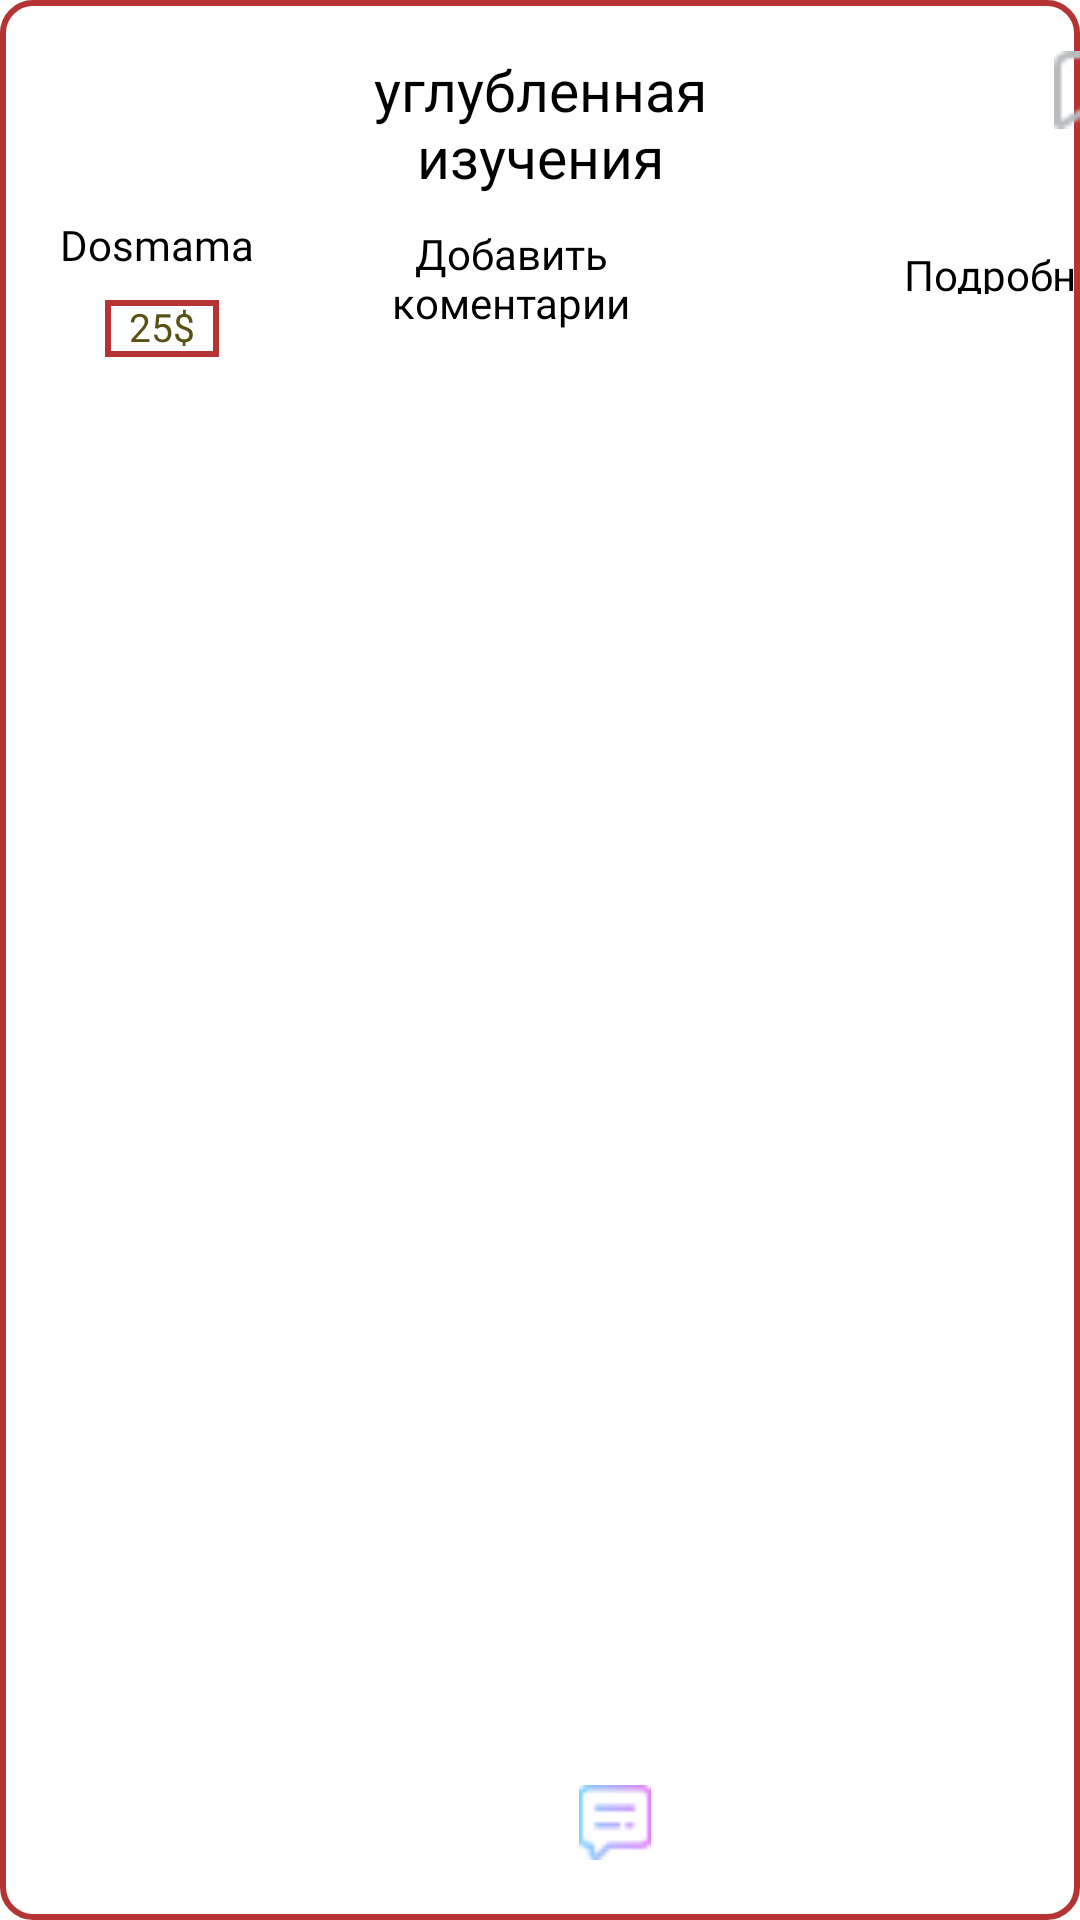

Screen size 1080x1920. Icon name, then its center in pixels as [x,y]:
comment: [615,1822]
